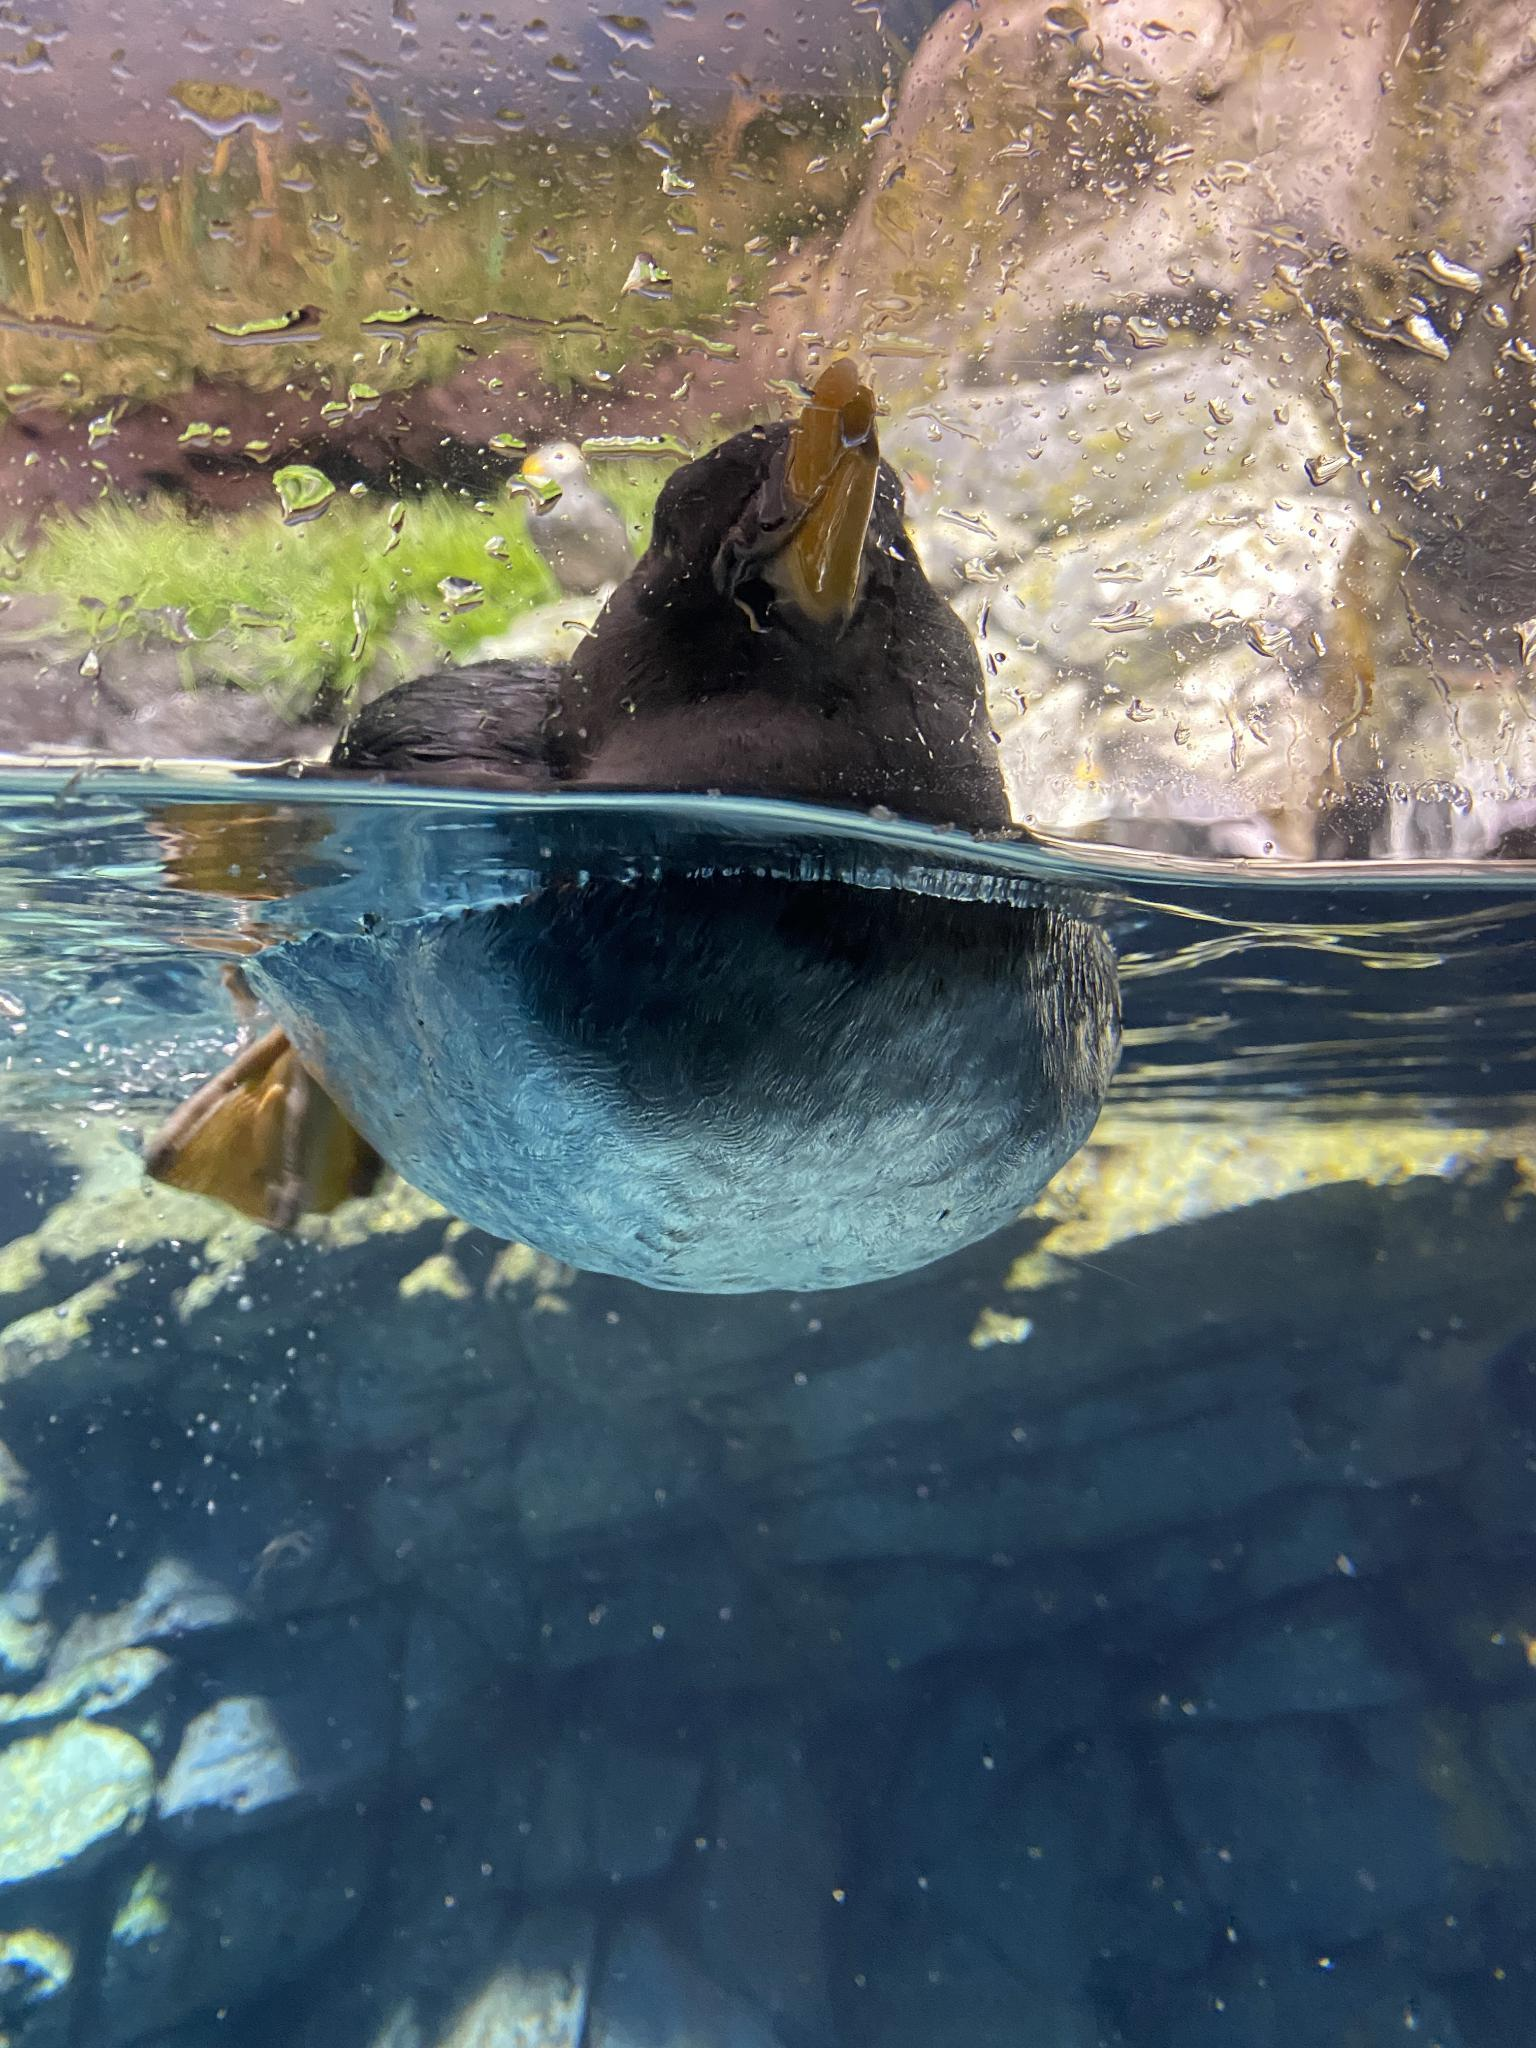puffin: (127, 343, 1125, 1359)
